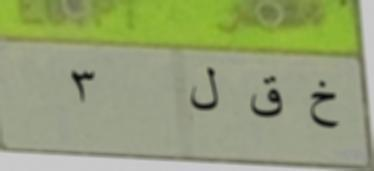3: (66, 64, 98, 106)
khaa: (304, 75, 341, 134)
laam: (186, 64, 223, 119)
qaaf: (248, 72, 286, 124)
